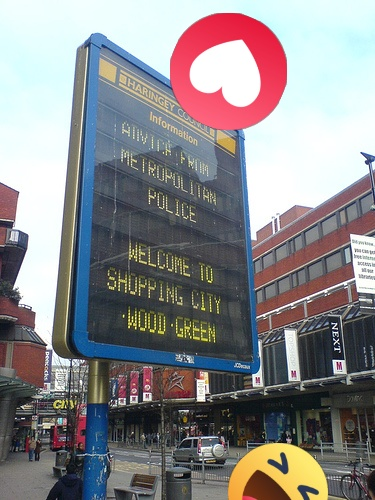haha: (228, 443, 328, 500)
love: (170, 13, 287, 130)
